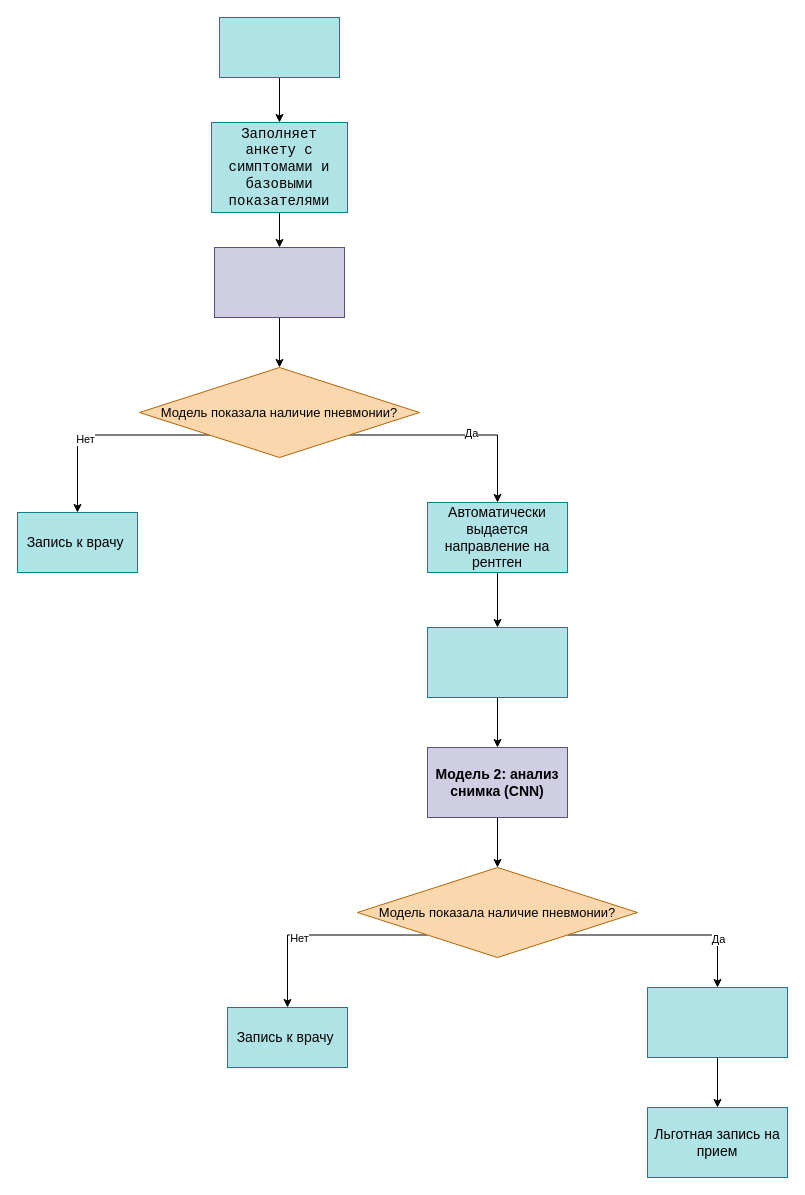
This 805x1195 diagram has some shape labels left out. Each missing label, with the centre of its shape:
"Модель 1: анализ анкеты (полносвязная нейронная сеть)" belongs at [279,282].
"Пациент обращается в поликлинику" belongs at [279,47].
"Рекомендация как можно быстрее обратиться к врачу" belongs at [717,1022].
"Рентгеновский снимок грудной клетки" belongs at [497,662].
